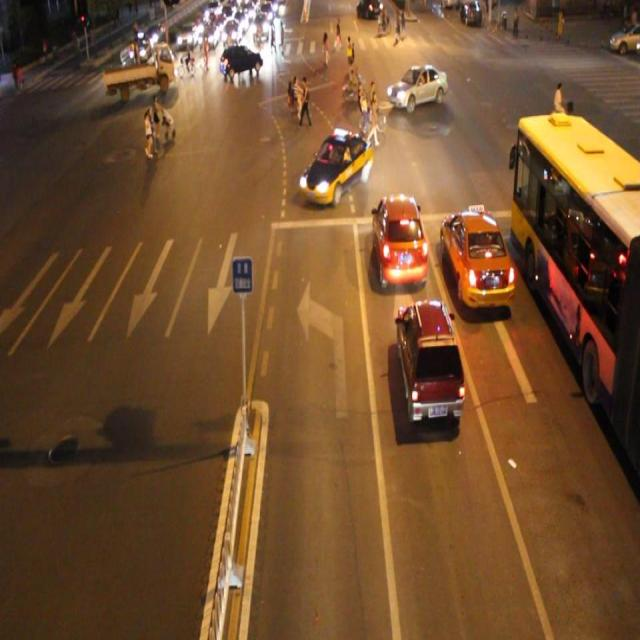bus: (102, 44, 176, 96)
car: (395, 297, 466, 422), (440, 204, 518, 308), (299, 130, 372, 204), (373, 192, 429, 288), (386, 64, 447, 111), (219, 44, 263, 79)
van: (511, 116, 640, 468)
